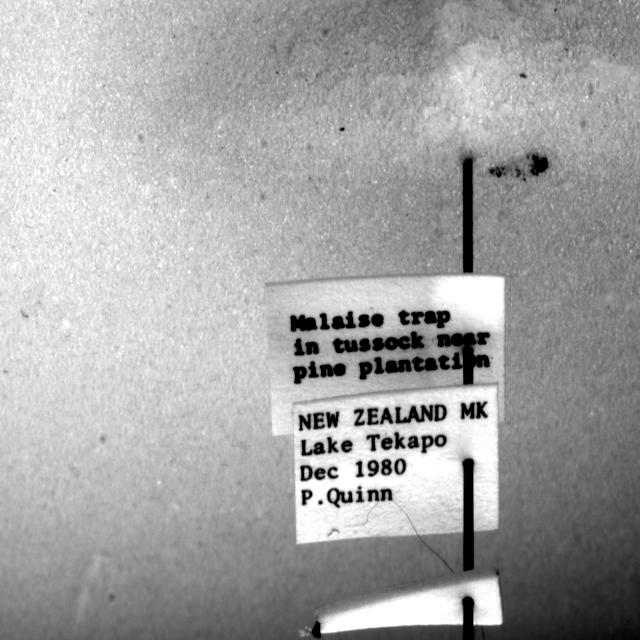typed_label: (265, 274, 505, 435), (292, 384, 499, 544)
